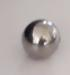steelball: (17, 14, 63, 61)
